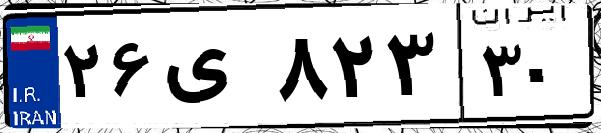0: (525, 38, 570, 115)
2: (330, 28, 385, 110), (57, 26, 110, 100)
3: (385, 28, 445, 110), (475, 38, 525, 113)
6: (110, 28, 158, 98)
8: (270, 28, 330, 110)
ی: (158, 20, 270, 120)
